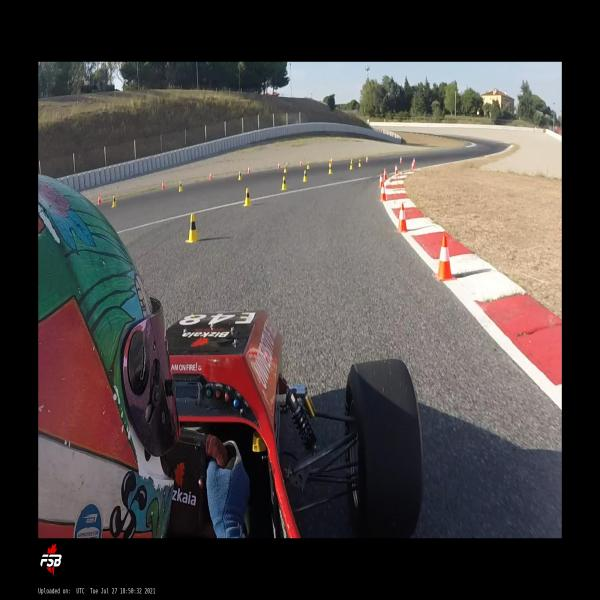orange_cone: (434, 235, 456, 282), (396, 202, 409, 232), (379, 182, 388, 202), (378, 173, 384, 188), (383, 168, 388, 180), (395, 164, 398, 174), (98, 194, 101, 204), (277, 162, 281, 169), (413, 157, 416, 166), (209, 172, 212, 179), (162, 180, 164, 190), (412, 161, 414, 170), (400, 156, 402, 164), (331, 157, 333, 164), (300, 160, 302, 166), (248, 168, 250, 174), (366, 157, 368, 162)
yellow_cone: (185, 213, 200, 243), (243, 187, 252, 207), (280, 176, 288, 191), (301, 169, 308, 183), (111, 195, 116, 208), (179, 181, 184, 192), (328, 163, 332, 175), (306, 160, 310, 170), (349, 160, 353, 170), (328, 159, 332, 169), (238, 170, 241, 180), (350, 158, 354, 165), (284, 164, 287, 173), (358, 159, 361, 167)
